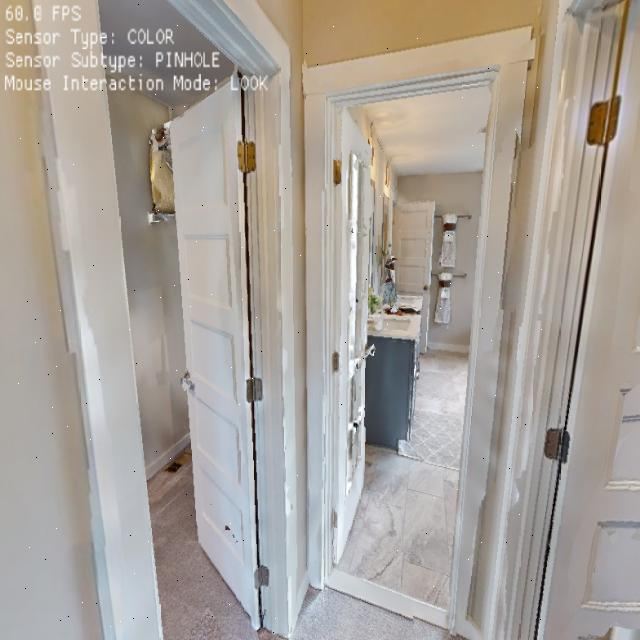door: (143, 73, 264, 623)
door-frame: (17, 0, 301, 640), (302, 23, 542, 625)
